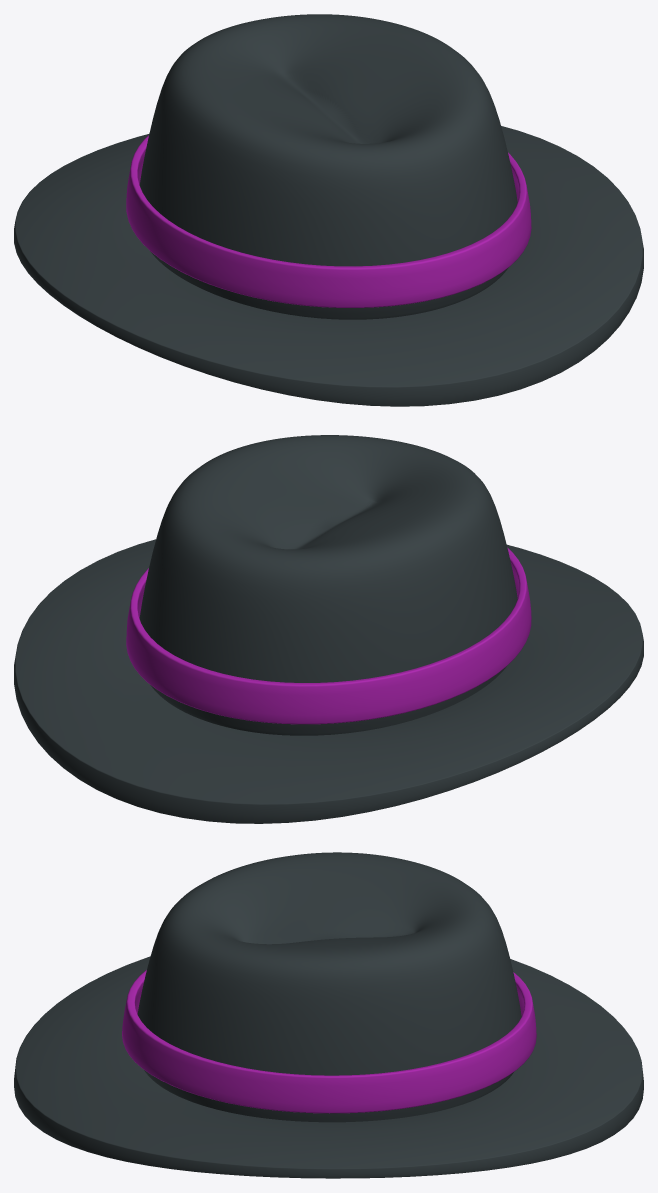
Rendered from purple_fedora.glb.
The picture shows the model from 3 angles, top to bottom: view 1: azimuth 30°, elevation 25°; view 2: azimuth 150°, elevation 25°; view 3: azimuth 270°, elevation 25°; orthographic projection. The views are drawn at different scales.
Visible parts, largest first — view 1: Pinched_crown, Brim, Ribbon; view 2: Pinched_crown, Brim, Ribbon; view 3: Pinched_crown, Brim, Ribbon.
Part boxes in pixels (bbox=[...]): Pinched_crown: bbox=[139, 14, 517, 319]; Brim: bbox=[14, 126, 643, 406]; Ribbon: bbox=[126, 135, 531, 307]; Pinched_crown: bbox=[139, 435, 517, 735]; Brim: bbox=[14, 539, 643, 823]; Ribbon: bbox=[126, 547, 531, 724]; Pinched_crown: bbox=[137, 852, 521, 1122]; Brim: bbox=[14, 956, 643, 1178]; Ribbon: bbox=[122, 970, 536, 1113].
Size of the model in its own units: 1.24 by 0.4443 by 1.37.
